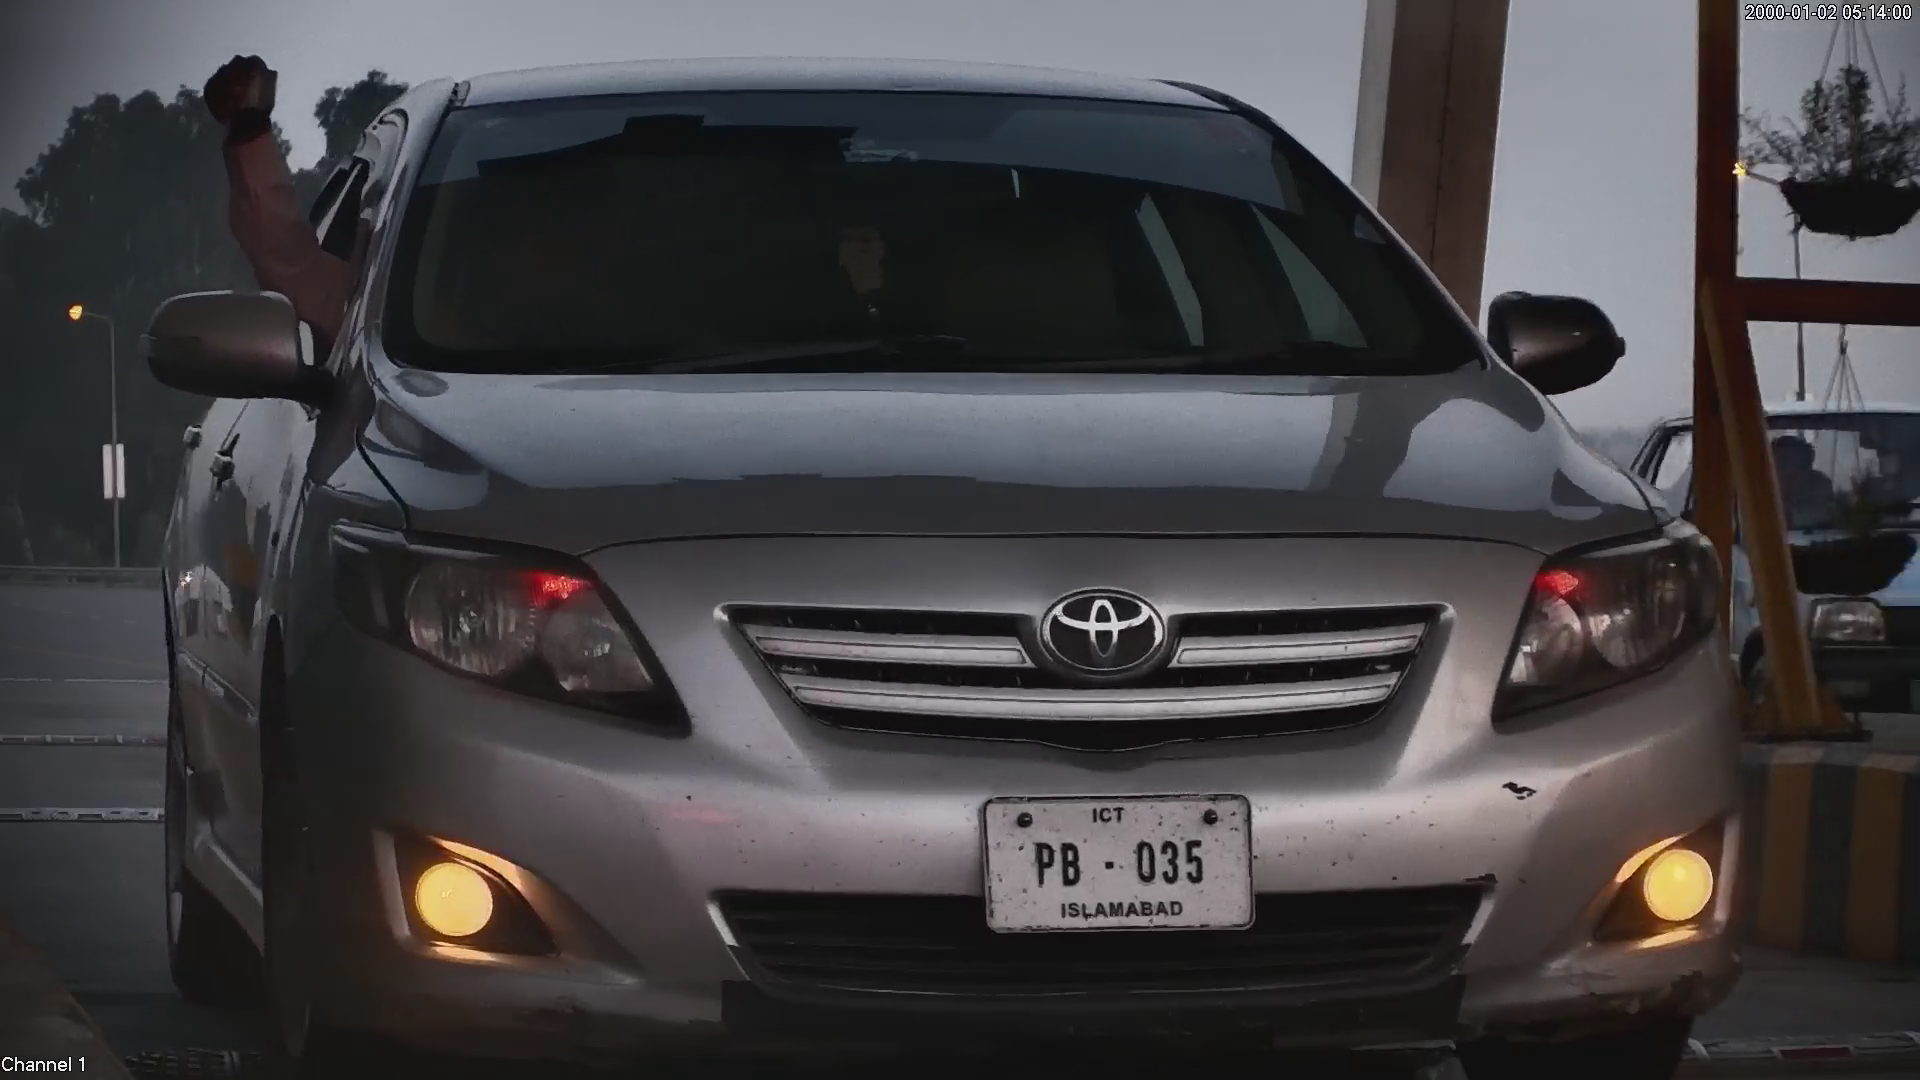Number_Plate: (970, 781, 1266, 946)
